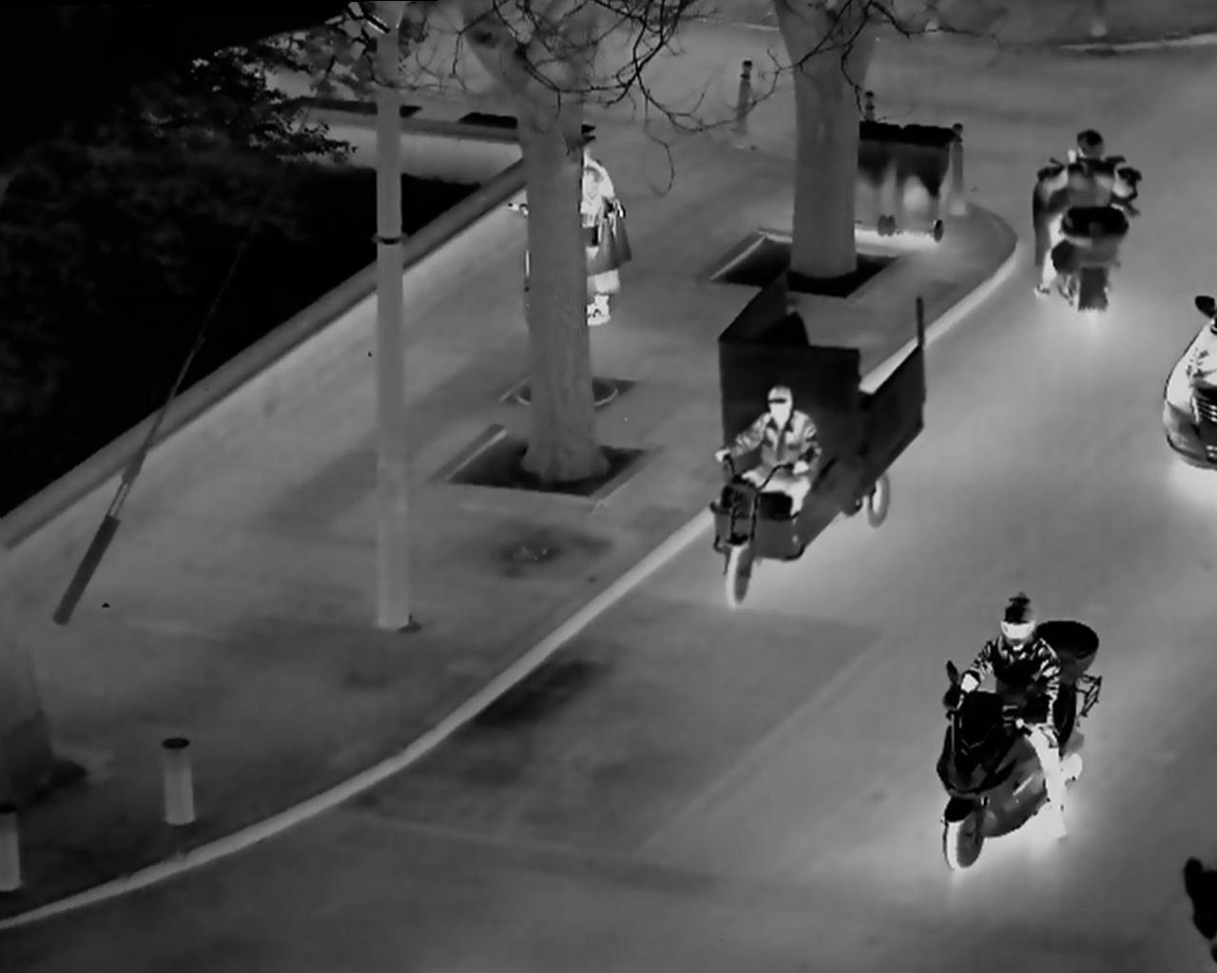person: (928, 579, 1106, 874), (1031, 109, 1145, 333), (714, 366, 827, 576), (570, 135, 632, 329)
